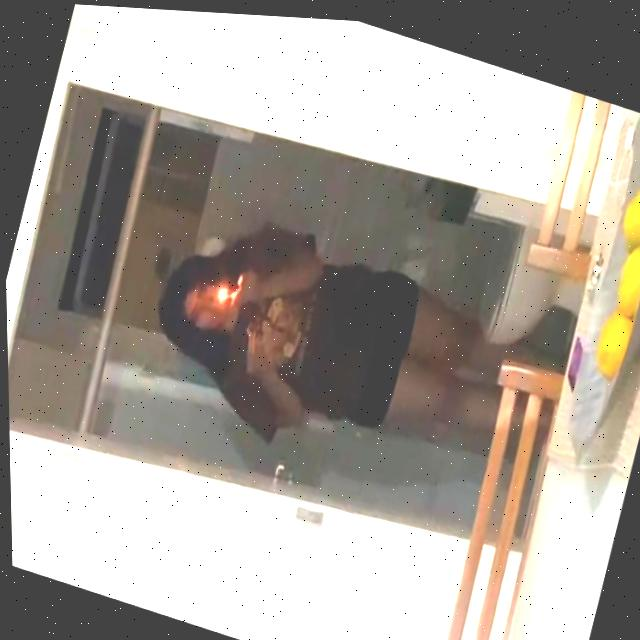Fire: (210, 281, 233, 303)
